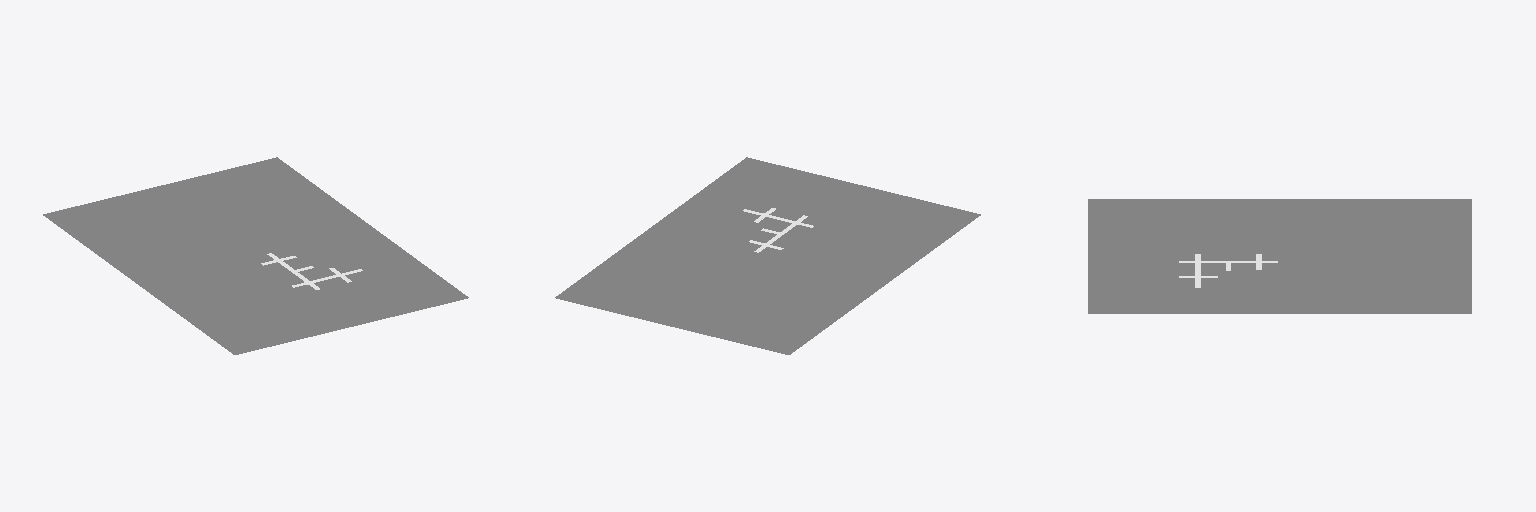
File: street.obj
3 views of the same model, side by side, from view 1: azimuth 30°, elevation 25°; view 2: azimuth 150°, elevation 25°; view 3: azimuth 270°, elevation 25° (orthographic).
Parts seen in each view (by area): view 1: Plane011; view 2: Plane011; view 3: Plane011.
Boxes of the visible parts, x1=… form: Plane011: x1=43, y1=157, x2=468, y2=354; Plane011: x1=555, y1=157, x2=980, y2=354; Plane011: x1=1088, y1=199, x2=1471, y2=313.
Bounding box in the file's own units: 235181 × 706 × 333518.